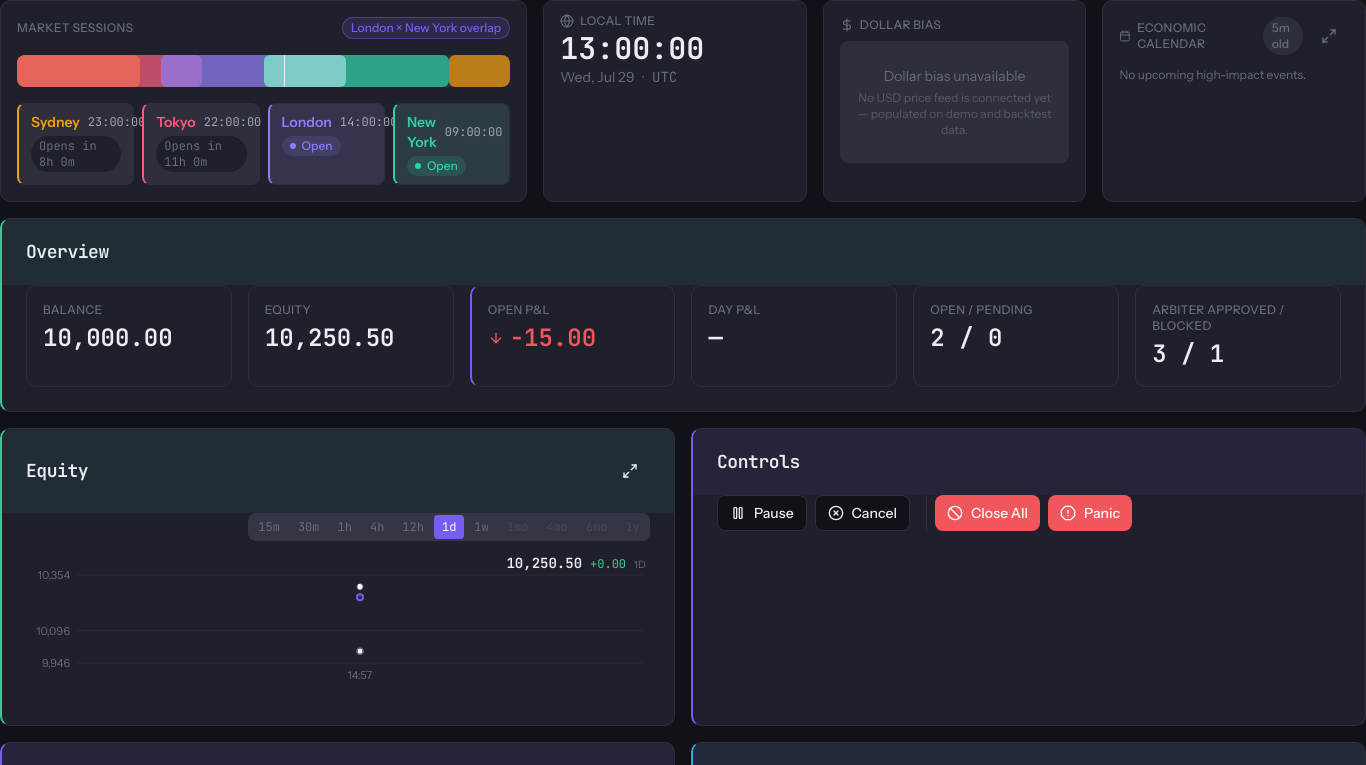
Test: news maximize › closes on Escape and returns focus to the maximize button (news)
Click the button named "Maximize Economic Calendar": point(1329, 36) [1309,18,1349,54]
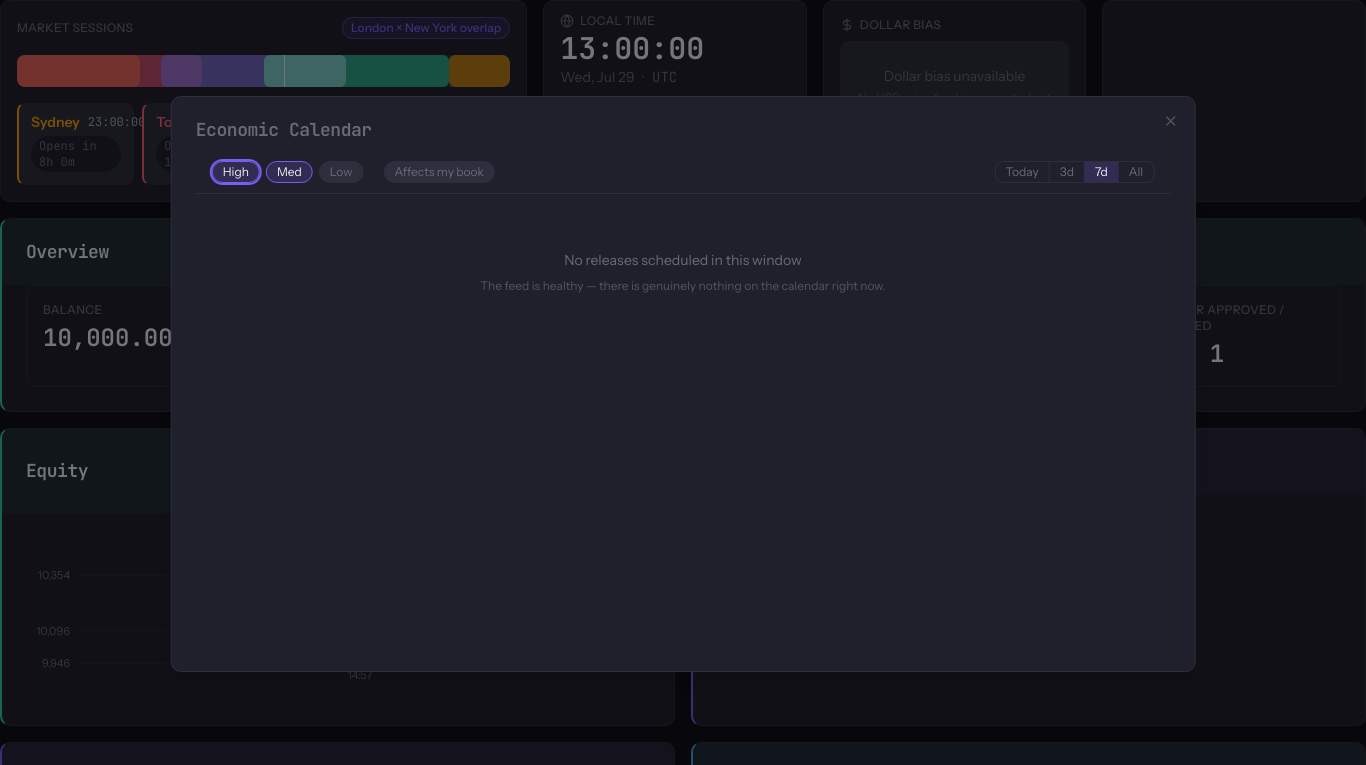
Expected: the dialog "Economic Calendar" is shown, [171,96,1195,672]
Press Escape
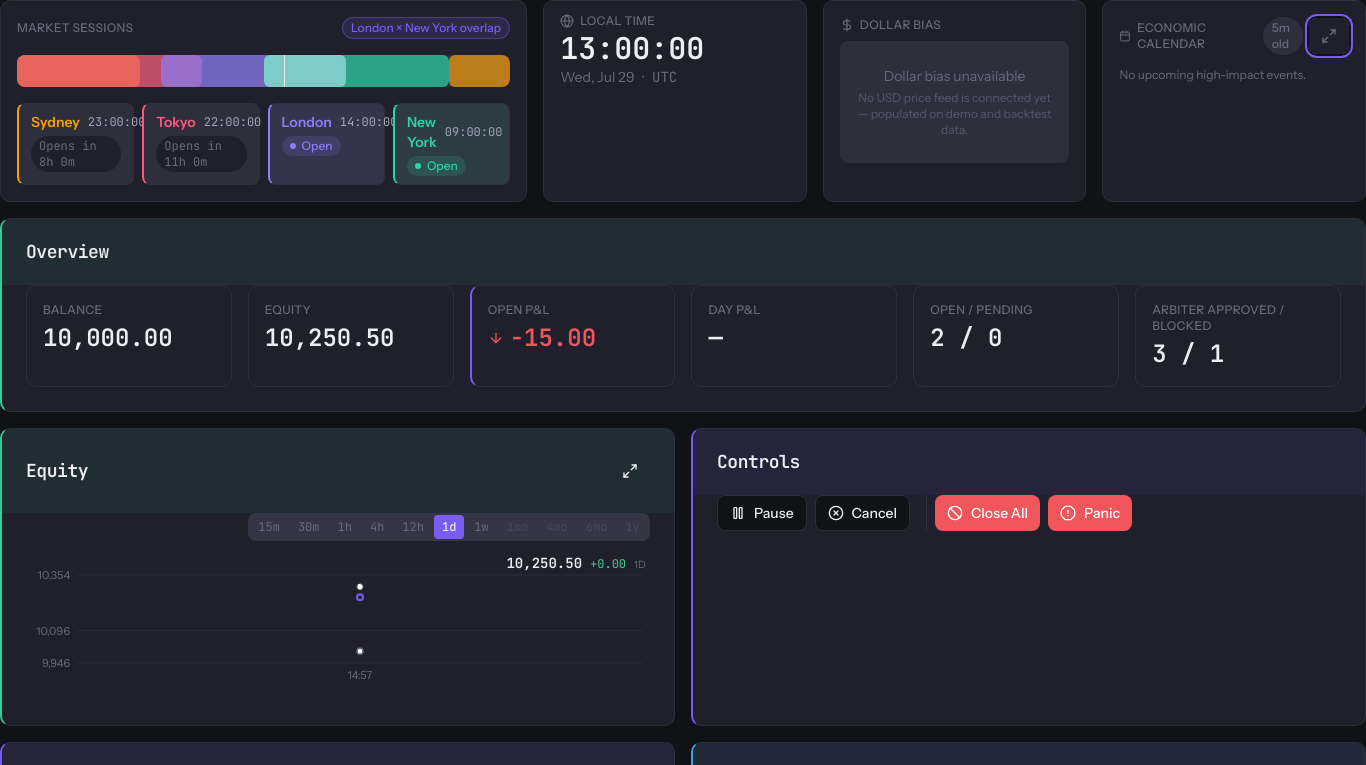
Expected: the dialog is gone
